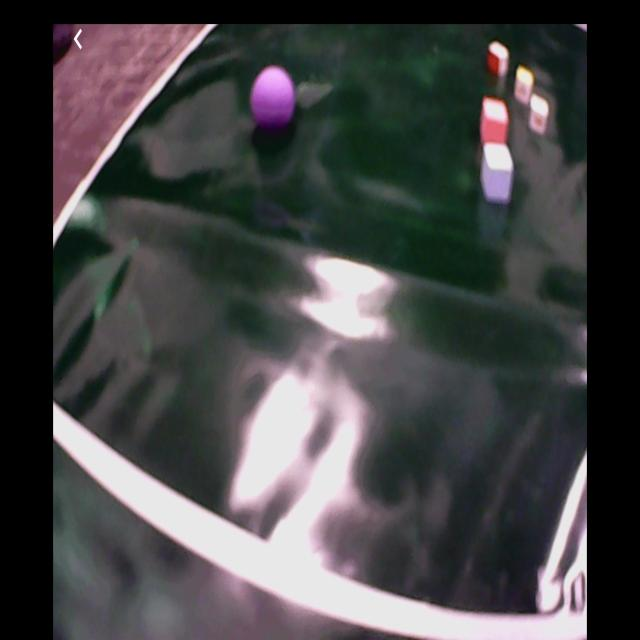ball: (252, 65, 297, 131)
